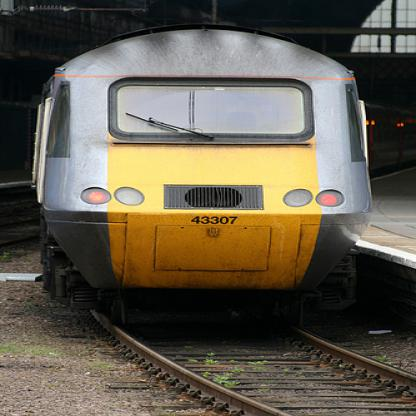train: (35, 25, 415, 323)
